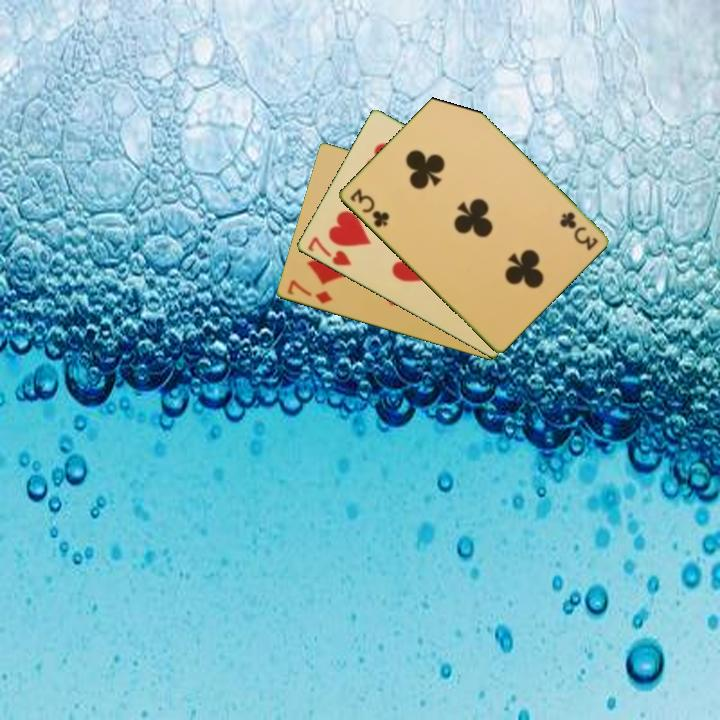3c: (346, 185, 392, 230), (556, 208, 601, 253)
7d: (283, 276, 335, 307)
7h: (303, 233, 354, 269)
